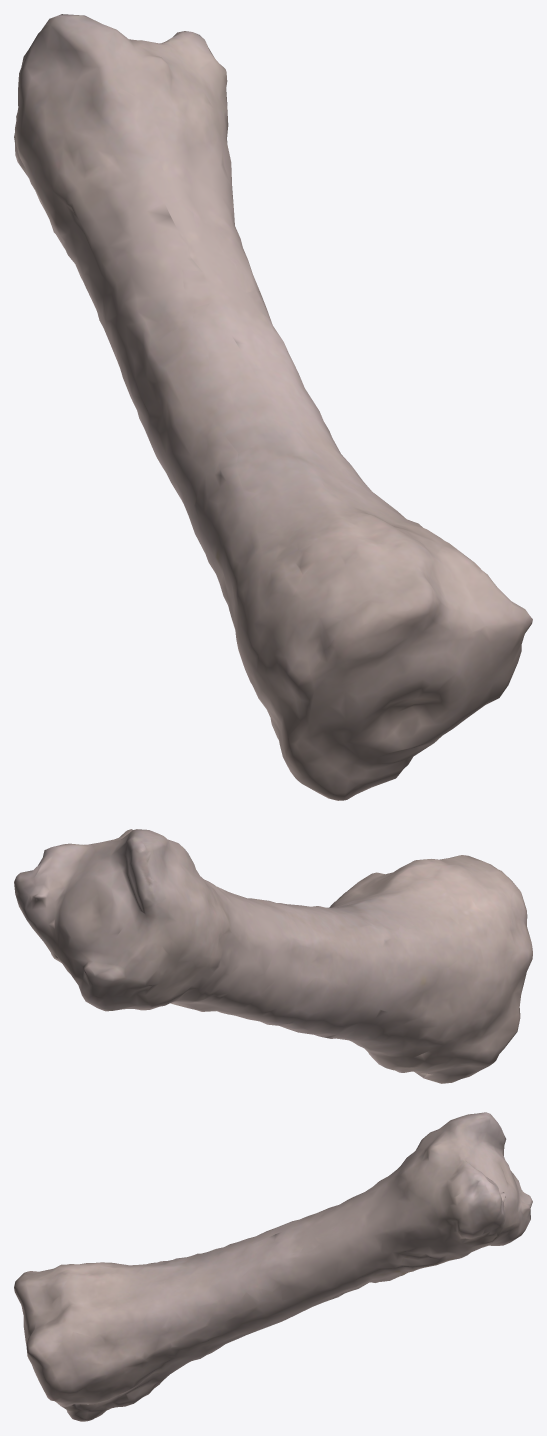
3 views of the same model, one above another, from view 1: azimuth 30°, elevation 25°; view 2: azimuth 150°, elevation 25°; view 3: azimuth 270°, elevation 25° (orthographic). The views are drawn at different scales.
Parts seen in each view (by area): view 1: 19.SW_Hund.001; view 2: 19.SW_Hund.001; view 3: 19.SW_Hund.001.
Boxes of the visible parts, x1,y1,x2,y2 form: 19.SW_Hund.001: (14, 14, 532, 800); 19.SW_Hund.001: (14, 829, 532, 1083); 19.SW_Hund.001: (14, 1112, 532, 1421).
Bounding box in the file's own units: 392 × 704 × 1041.
1 material, 1 textured.
